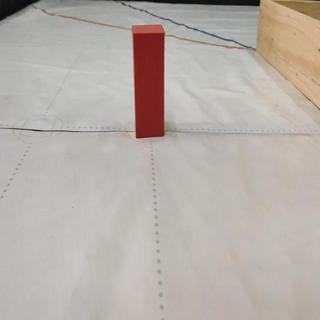redbox: (131, 23, 166, 138)
